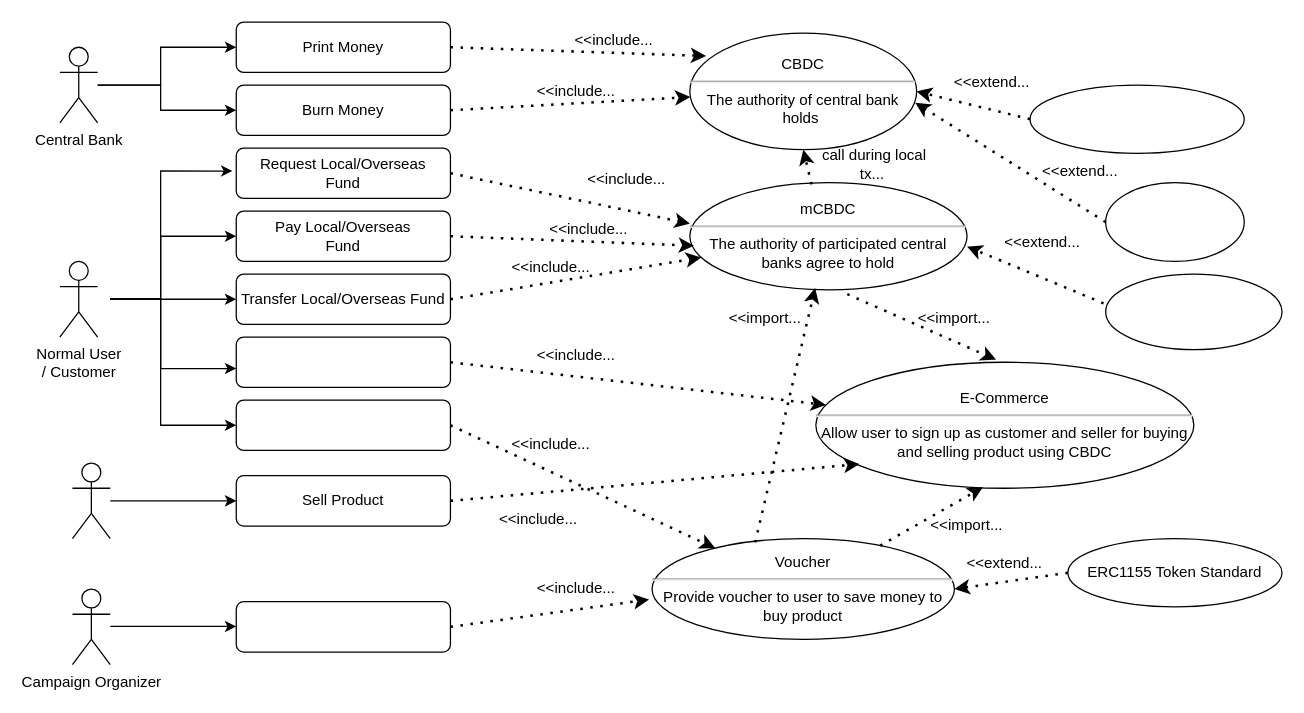
Image size: 1304x713. Some labels were removed from this diagram. Here are the shapes that lost their labels. From the top down, the box of each, then its label:
(1029, 84, 1244, 153): ERC20 Token Standard
(1104, 181, 1244, 261): Ownable For access control
(1104, 273, 1282, 350): Chainlink Client For FX Rate Request
(235, 336, 450, 387): Buy Product
(235, 399, 450, 450): Claim & Collect Voucher
(71, 462, 110, 539): Product Seller
(235, 600, 450, 652): Create Voucher
